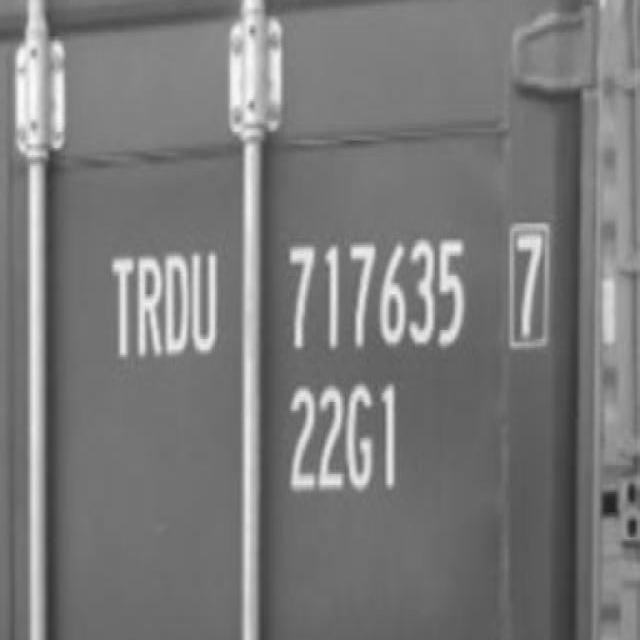dv: (506, 214, 552, 352)
owner: (107, 242, 220, 368)
serial: (280, 218, 470, 356)
size: (274, 369, 409, 506)
